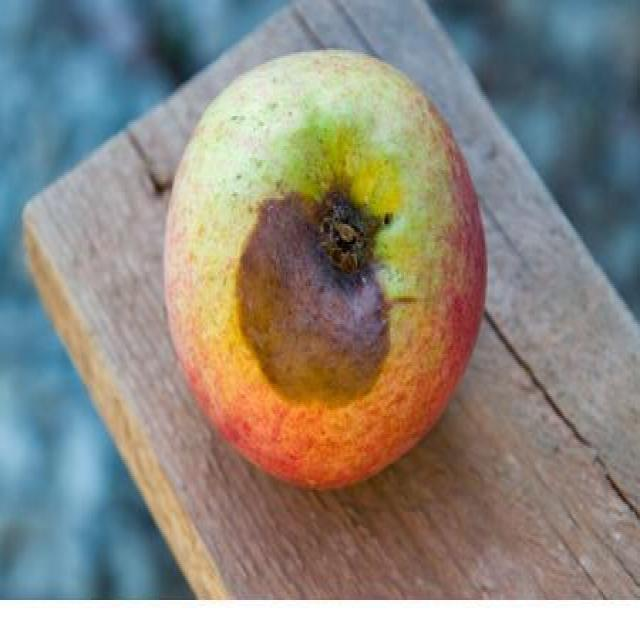Apple: (158, 47, 488, 488)
